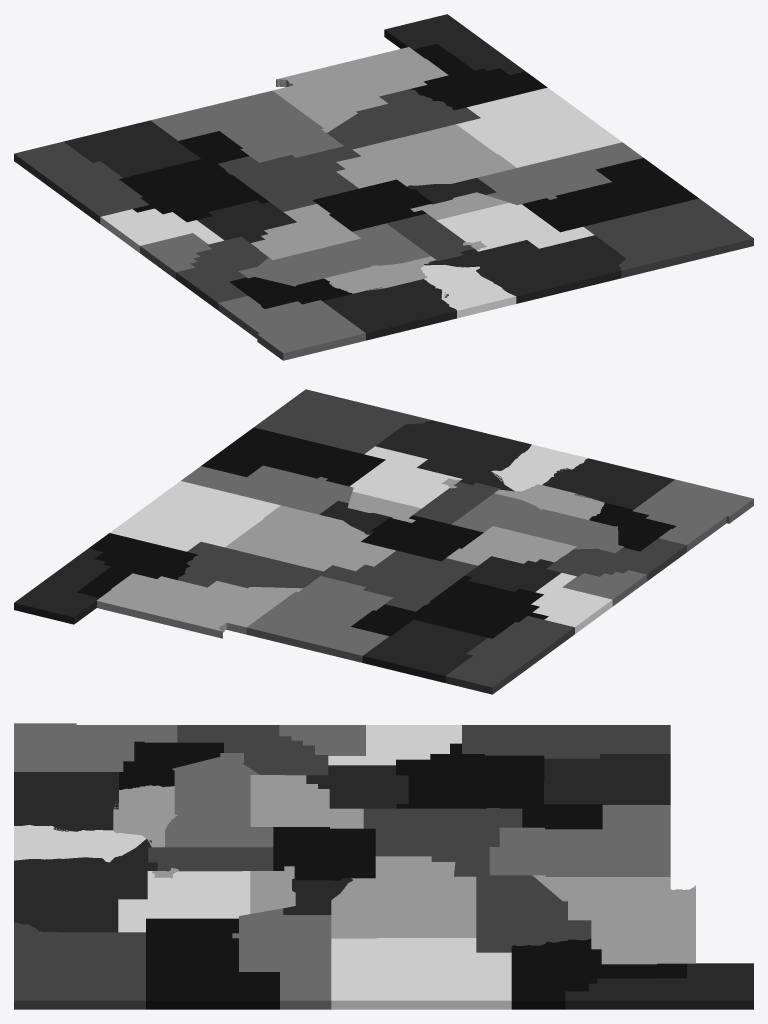
File: New_Mexico_Counties_3D.fbx
The picture shows the model from 3 angles, top to bottom: view 1: azimuth 30°, elevation 25°; view 2: azimuth 150°, elevation 25°; view 3: azimuth 270°, elevation 25°; orthographic projection. The views are drawn at different scales.
Parts seen in each view (by area): view 1: NM_Catron_County_3D, NM_San_Juan_County_3D, NM_Rio_Arriba_County_3D, NM_Otero_County_3D, NM_Socorro_County_3D, NM_Chaves_County_3D, NM_McKinley_County_3D, NM_Union_County_3D, NM_San_Miguel_County_3D, NM_Lincoln_County_3D, NM_Lea_County_3D, NM_Cibola_County_3D (+20 smaller); view 2: NM_Otero_County_3D, NM_Catron_County_3D, NM_Socorro_County_3D, NM_Chaves_County_3D, NM_San_Juan_County_3D, NM_Rio_Arriba_County_3D, NM_McKinley_County_3D, NM_Lea_County_3D, NM_San_Miguel_County_3D, NM_Lincoln_County_3D, NM_Union_County_3D, NM_Eddy_County_3D (+20 smaller); view 3: NM_Catron_County_3D, NM_San_Juan_County_3D, NM_Otero_County_3D, NM_Socorro_County_3D, NM_McKinley_County_3D, NM_Chaves_County_3D, NM_Rio_Arriba_County_3D, NM_Lincoln_County_3D, NM_San_Miguel_County_3D, NM_Cibola_County_3D, NM_Hidalgo_County_3D, NM_Sierra_County_3D (+20 smaller).
Boxes of the visible parts, x1=… form: NM_Catron_County_3D: x1=456, y1=87, x2=621, y2=167; NM_San_Juan_County_3D: x1=583, y1=198, x2=753, y2=277; NM_Rio_Arriba_County_3D: x1=424, y1=235, x2=625, y2=303; NM_Otero_County_3D: x1=150, y1=90, x2=343, y2=162; NM_Socorro_County_3D: x1=336, y1=124, x2=516, y2=188; NM_Chaves_County_3D: x1=119, y1=131, x2=268, y2=222; NM_McKinley_County_3D: x1=522, y1=158, x2=698, y2=232; NM_Union_County_3D: x1=218, y1=296, x2=365, y2=360; NM_San_Miguel_County_3D: x1=239, y1=223, x2=430, y2=286; NM_Lincoln_County_3D: x1=218, y1=145, x2=360, y2=211; NM_Lea_County_3D: x1=14, y1=141, x2=149, y2=223; NM_Cibola_County_3D: x1=477, y1=142, x2=643, y2=205; NM_Otero_County_3D: x1=246, y1=576, x2=392, y2=662; NM_Catron_County_3D: x1=110, y1=481, x2=280, y2=551; NM_Socorro_County_3D: x1=225, y1=505, x2=395, y2=571; NM_Chaves_County_3D: x1=351, y1=575, x2=548, y2=638; NM_San_Juan_County_3D: x1=254, y1=389, x2=431, y2=454; NM_Rio_Arriba_County_3D: x1=375, y1=420, x2=531, y2=491; NM_McKinley_County_3D: x1=201, y1=427, x2=385, y2=486; NM_Lea_County_3D: x1=445, y1=616, x2=574, y2=694; NM_San_Miguel_County_3D: x1=451, y1=493, x2=624, y2=553; NM_Lincoln_County_3D: x1=318, y1=550, x2=477, y2=611; NM_Union_County_3D: x1=632, y1=479, x2=753, y2=551; NM_Eddy_County_3D: x1=362, y1=620, x2=487, y2=682; NM_Catron_County_3D: x1=331, y1=938, x2=511, y2=1009; NM_San_Juan_County_3D: x1=14, y1=922, x2=145, y2=1009; NM_Otero_County_3D: x1=489, y1=805, x2=670, y2=876; NM_Socorro_County_3D: x1=331, y1=856, x2=476, y2=938; NM_McKinley_County_3D: x1=146, y1=918, x2=279, y2=1009; NM_Chaves_County_3D: x1=396, y1=743, x2=602, y2=829; NM_Rio_Arriba_County_3D: x1=14, y1=839, x2=157, y2=932; NM_Lincoln_County_3D: x1=363, y1=808, x2=522, y2=876; NM_San_Miguel_County_3D: x1=165, y1=753, x2=273, y2=847; NM_Cibola_County_3D: x1=232, y1=908, x2=331, y2=1009; NM_Hidalgo_County_3D: x1=565, y1=963, x2=753, y2=1009; NM_Sierra_County_3D: x1=476, y1=875, x2=591, y2=952.
Size of the model in its own units: 654 by 10 by 737.
